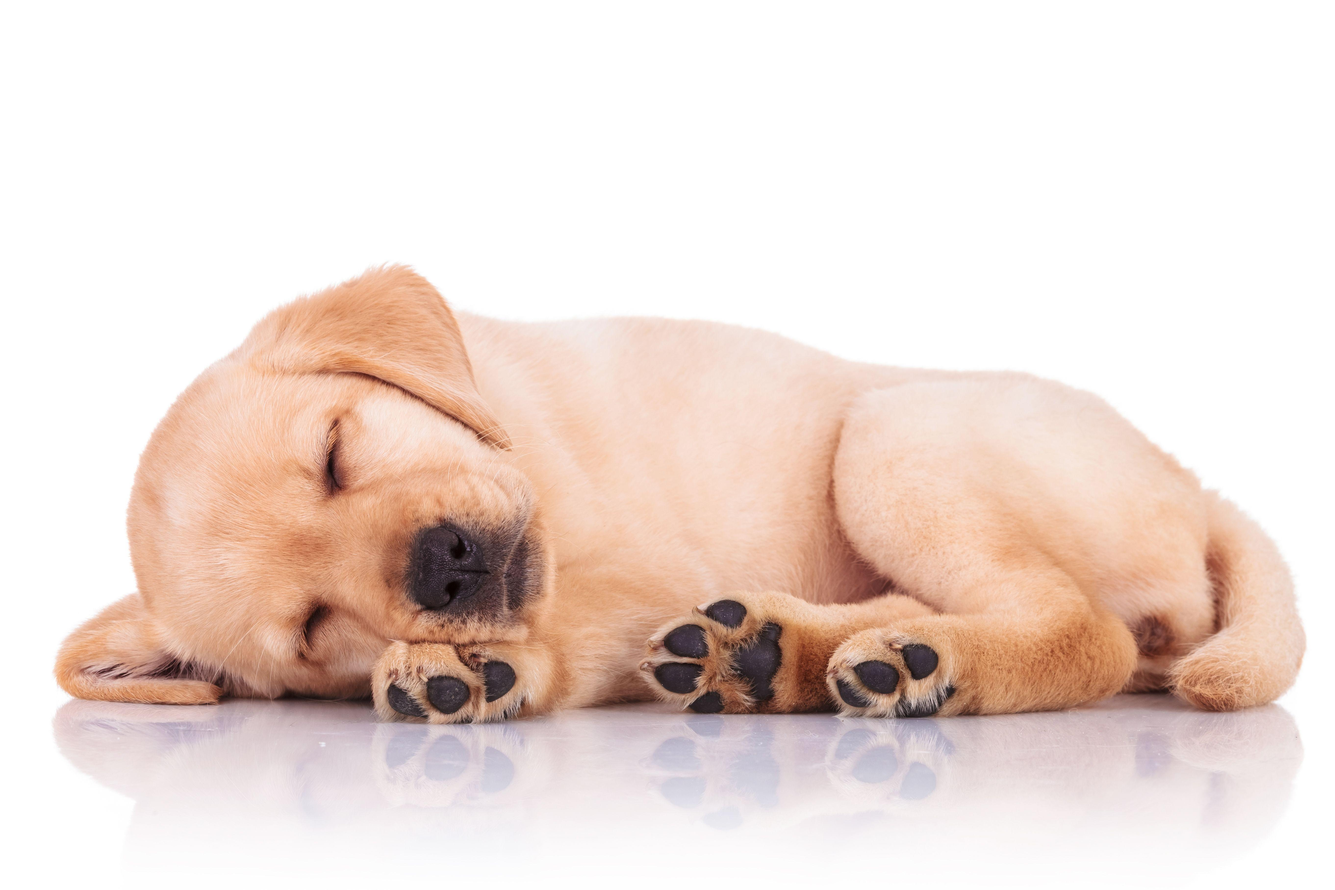puppy-dog: (49, 257, 1311, 725)
